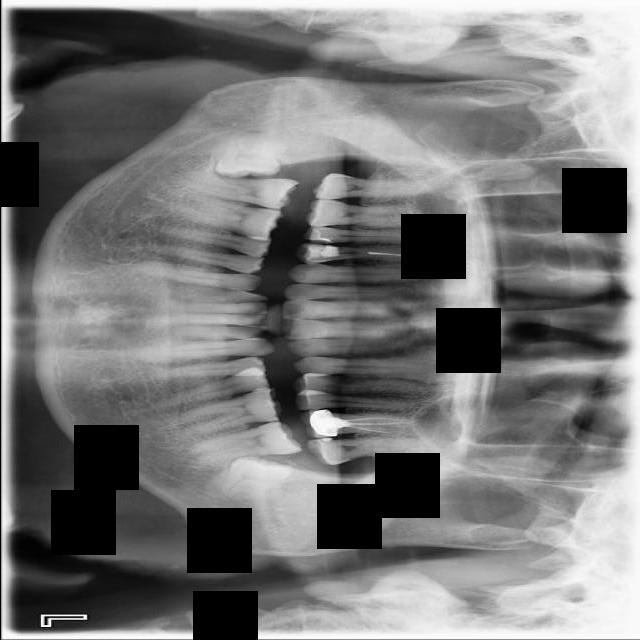52: (304, 427, 350, 474), (295, 242, 339, 266), (300, 409, 337, 437), (305, 226, 337, 244)
73: (332, 411, 420, 437), (337, 244, 420, 264), (60, 614, 72, 620)
BioHorizons Implant: (308, 437, 437, 466)
Biomet 3i Implant: (222, 452, 296, 503)
Blue Sky Bio Implant: (188, 420, 304, 464)
Caries: (310, 169, 433, 200)
Implant: (175, 171, 298, 213)
Keystone Dental Implant: (213, 130, 281, 179)
